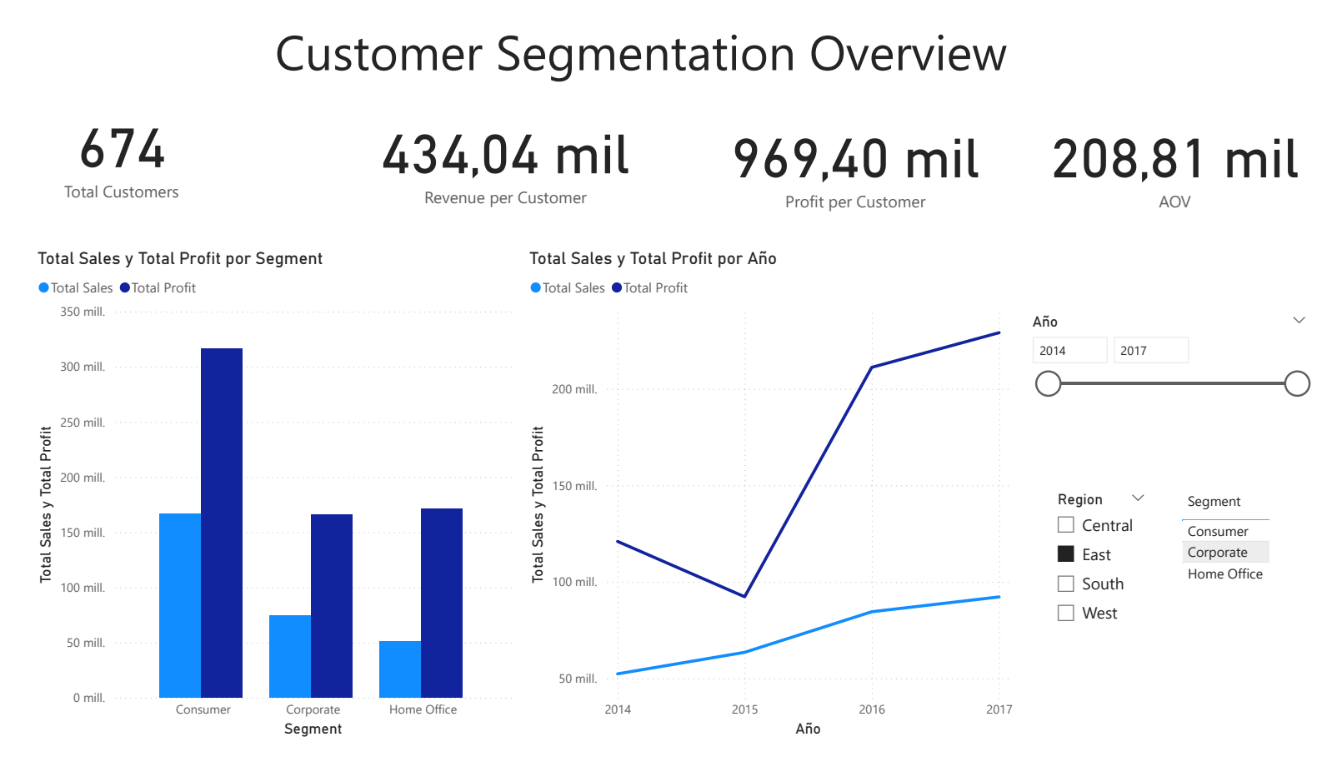

The page's visual inventory and layout, read from the dashboard file:
{"tool":"powerbi","page":{"name":"Customer Segmentation Overview","canvas":[1280,720],"ordinal":0},"visuals":[{"type":"card","fields":{"Values":["Sample - Superstore.Total Customers"]},"box":[10,75.6,182.2,123.3],"z":0},{"type":"card","fields":{"Values":["Sample - Superstore.Revenue per Customer"]},"box":[345.6,75.6,267.8,135.6],"z":1000},{"type":"card","fields":{"Values":["Sample - Superstore.Profit per Customer"]},"box":[685.6,75.6,277.8,143.3],"z":2000},{"type":"card","fields":{"Values":["Sample - Superstore.AOV"]},"box":[1009.7,75.8,259.7,143.5],"z":3000},{"type":"clusteredColumnChart","fields":{"Category":["Sample - Superstore.Segment"],"Y":["Sample - Superstore.Total Sales","Sample - Superstore.Total Profit"]},"box":[12.9,232.3,477.4,487.1],"z":4000},{"type":"lineChart","fields":{"Category":["Sample - Superstore.Order Date.Variación.Jerarquía de fechas.Año","Sample - Superstore.Order Date.Variación.Jerarquía de fechas.Mes"],"Y":["Sample - Superstore.Total Sales","Sample - Superstore.Total Profit"]},"box":[498.4,232.3,485.5,487.1],"z":5000},{"type":"textbox","box":[191.1,0,844.4,76.7],"z":6000},{"type":"group","id":"g1","title":"Grupo 1","box":[985.6,292.1,295.2,427.3],"z":7000},{"type":"tableEx","fields":{"Values":["Sample - Superstore.Segment"]},"box":[1140.4,467.6,130.9,251.8],"z":7000,"group":"g1"},{"type":"slicer","fields":{"Values":["Sample - Superstore.Region"]},"box":[1010.5,467.6,111,251.8],"z":8000,"group":"g1"},{"type":"slicer","fields":{"Values":["Sample - Superstore.Order Date.Variación.Jerarquía de fechas.Año"]},"box":[985.6,292.1,295.2,161.3],"z":9000,"group":"g1"}]}

Visuals, with their boxes in screenshot pixels (x1, y1, x2, y2), scaled from the page's 1280x720 canvas onto the 1337x762 screenshot:
card - Sample - Superstore.Total Customers: 10 80 201 211
card - Sample - Superstore.Revenue per Customer: 361 80 641 224
card - Sample - Superstore.Profit per Customer: 716 80 1006 232
card - Sample - Superstore.AOV: 1055 80 1326 232
clusteredColumnChart - Sample - Superstore.Segment x Sample - Superstore.Total Sales: 13 246 512 761
lineChart - Sample - Superstore.Order Date.Variación.Jerarquía de fechas.Año x Sample - Superstore.Order Date.Variación.Jerarquía de fechas.Mes: 521 246 1028 761
textbox: 200 0 1082 81
"Grupo 1" group: 1029 309 1336 761
tableEx - Sample - Superstore.Segment: 1191 495 1328 761
slicer - Sample - Superstore.Region: 1055 495 1171 761
slicer - Sample - Superstore.Order Date.Variación.Jerarquía de fechas.Año: 1029 309 1336 480
